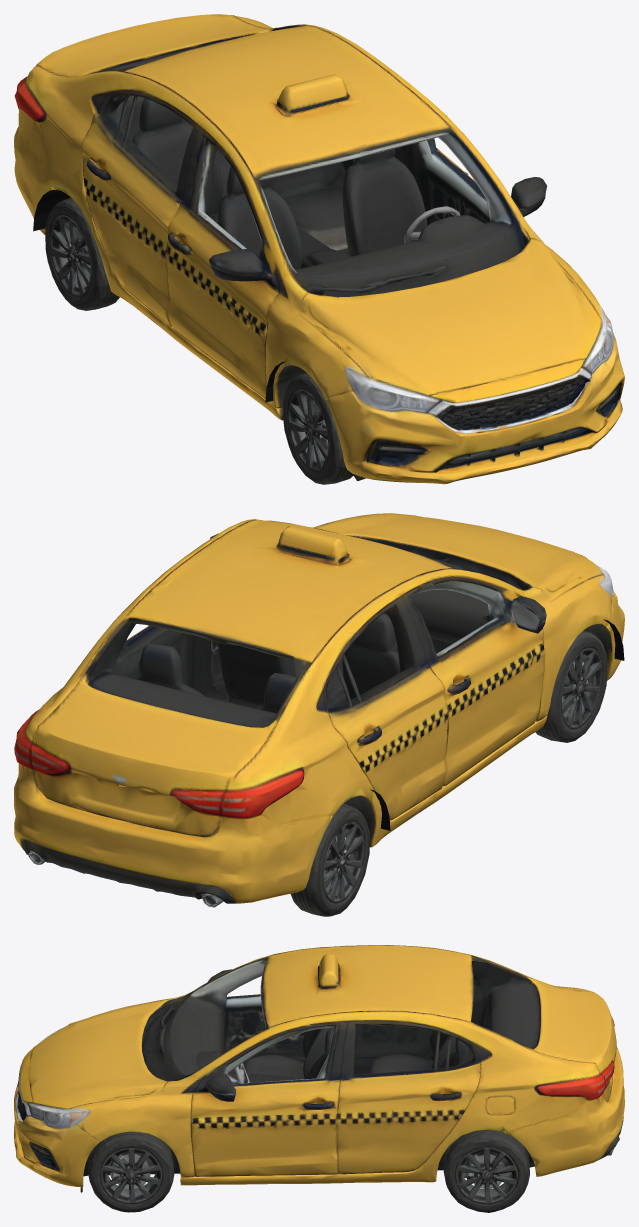
Rendered from car_taxi.glb.
3 views of the same model, one above another, from view 1: azimuth 30°, elevation 25°; view 2: azimuth 150°, elevation 25°; view 3: azimuth 270°, elevation 25° (orthographic). The views are drawn at different scales.
Parts seen in each view (by area): view 1: body, wheel_FR, wheel_RR, liner_RR; view 2: body, wheel_FR, wheel_RR; view 3: body, wheel_FL, wheel_RL.
Part boxes in pixels (box(x1,y1,x2,y2)): body: box(14, 14, 624, 484); wheel_FR: box(277, 364, 353, 484); wheel_RR: box(45, 198, 119, 310); liner_RR: box(33, 189, 70, 231); body: box(14, 513, 624, 916); wheel_FR: box(535, 623, 612, 742); wheel_RR: box(312, 795, 376, 914); body: box(14, 945, 624, 1212); wheel_FL: box(87, 1131, 174, 1212); wheel_RL: box(433, 1130, 527, 1212).
Bounding box in the file's own units: 2.21 × 1.72 × 4.7.
2 materials, 1 textured.
